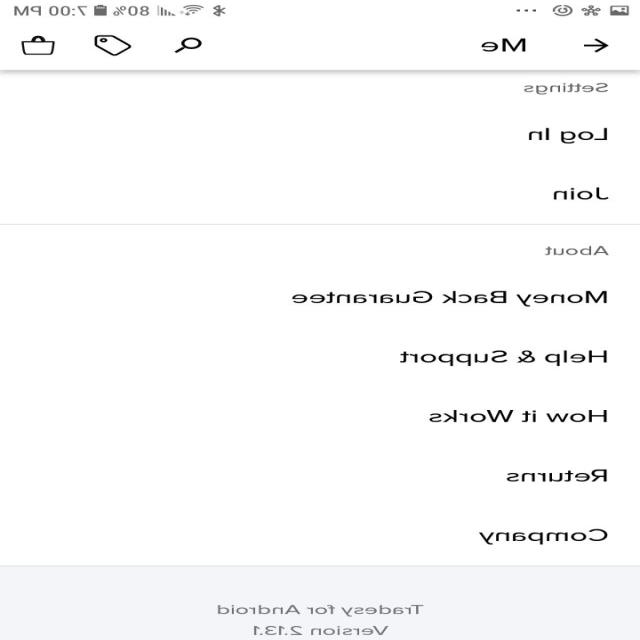Icon: (95, 35, 133, 56), (21, 35, 56, 55), (175, 37, 203, 53), (584, 38, 609, 52)
Text: (292, 290, 608, 307), (400, 350, 608, 366), (218, 604, 424, 617), (479, 528, 608, 545), (429, 410, 608, 422), (253, 625, 389, 635), (528, 127, 608, 144), (506, 469, 608, 481), (524, 83, 609, 95), (554, 187, 609, 200), (481, 39, 526, 52), (545, 246, 609, 255)
